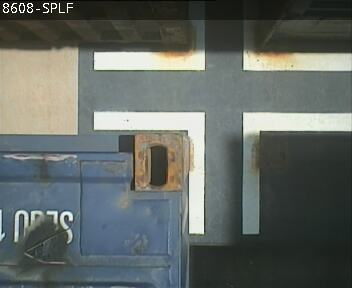groundmarker_1: (93, 111, 352, 235), (93, 1, 352, 71)
